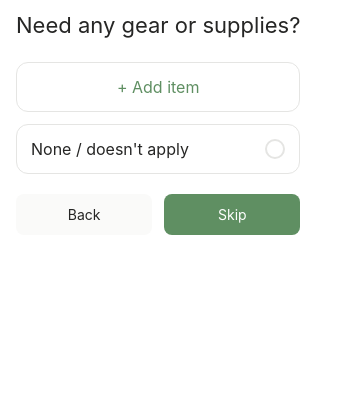
EnrichmentCard › supports adding multiple supply items without navigating away
Click the text "+ Add item".
click(158, 87)  # box [117,77,199,97]
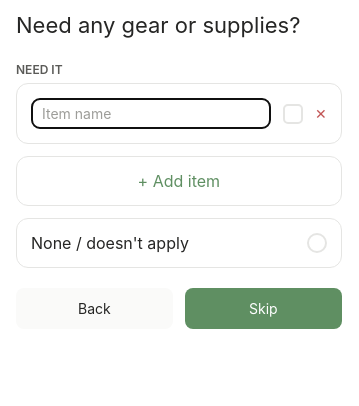
Click the text "+ Add item".
click(179, 181)  # box [138,171,220,191]
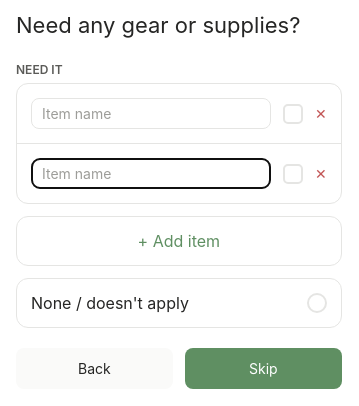
Expected: the number of fields with placeholder "Item name" is 2, [31,98,271,129]; [31,158,271,189]
